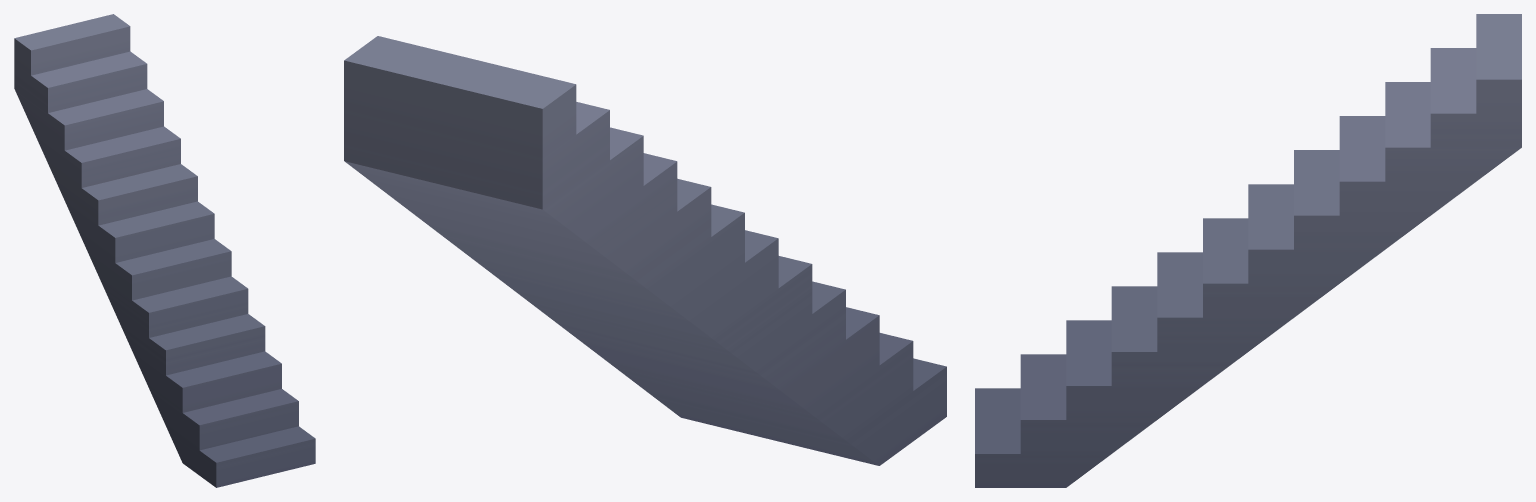
File: stairs-stone.fbx
The picture shows the model from 3 angles, left to right: view 1: azimuth 30°, elevation 25°; view 2: azimuth 150°, elevation 25°; view 3: azimuth 270°, elevation 25°; orthographic projection. The views are drawn at different scales.
Visible parts, largest first — view 1: stairs-stone; view 2: stairs-stone; view 3: stairs-stone.
Part boxes in pixels (x1,y1,x2,y2): stairs-stone: (14, 14, 315, 487); stairs-stone: (344, 36, 946, 465); stairs-stone: (975, 14, 1521, 487).
Bounding box in the file's own units: 0.2325 × 0.819 × 0.675.
